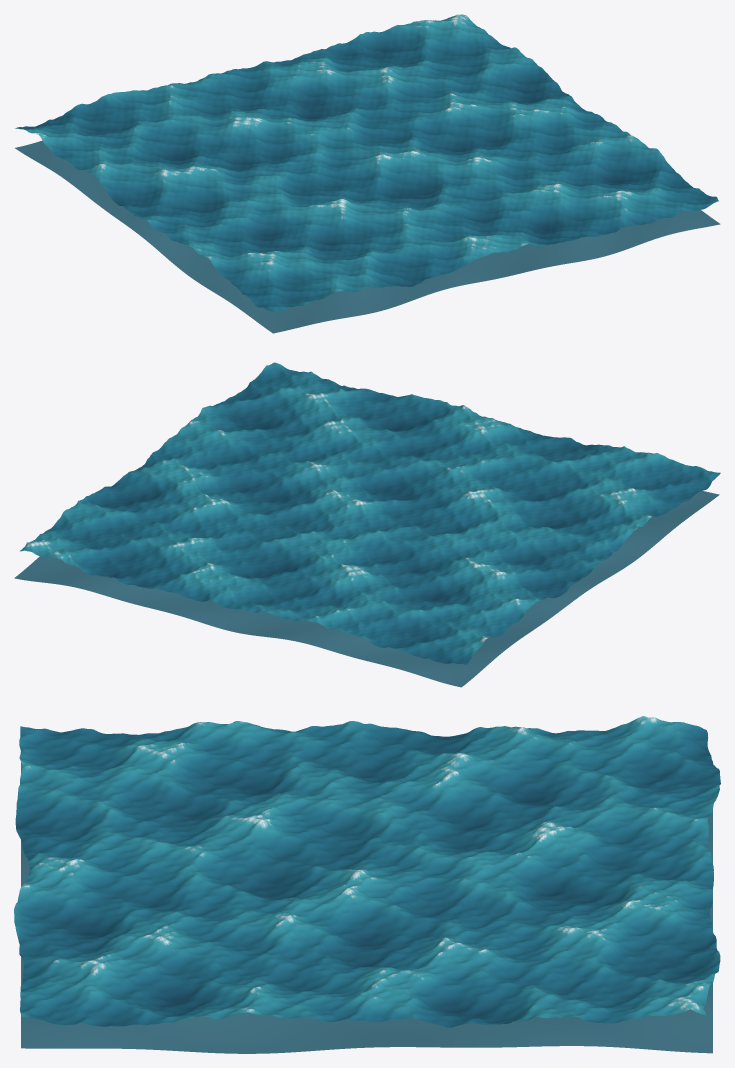
File: ocean.glb
The picture shows the model from 3 angles, top to bottom: view 1: azimuth 30°, elevation 25°; view 2: azimuth 150°, elevation 25°; view 3: azimuth 270°, elevation 25°; orthographic projection. The views are drawn at different scales.
Visible parts, largest first — view 1: OceanSurface, OceanSeabed; view 2: OceanSurface, OceanSeabed; view 3: OceanSurface, OceanSeabed.
Boxes of the visible parts, box(x1,y1,x2,y2) form: OceanSurface: box(15, 14, 718, 311); OceanSeabed: box(15, 140, 720, 333); OceanSurface: box(20, 362, 720, 664); OceanSeabed: box(14, 491, 719, 687); OceanSurface: box(14, 716, 720, 1027); OceanSeabed: box(21, 760, 712, 1053).
Size of the model in its own units: 91.64 by 6.51 by 91.95.
